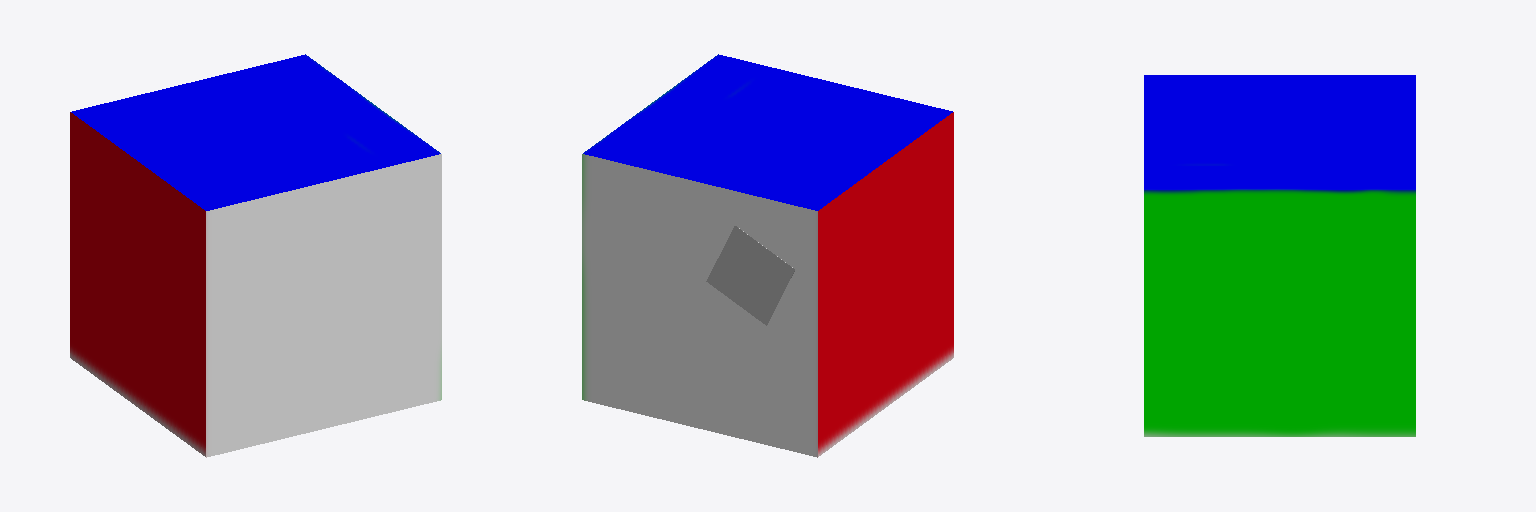
3 views of the same model, side by side, from view 1: azimuth 30°, elevation 25°; view 2: azimuth 150°, elevation 25°; view 3: azimuth 270°, elevation 25° (orthographic).
Parts seen in each view (by area): view 1: Cube; view 2: Cube, Cube.001; view 3: Cube.
Boxes of the visible parts, x1=… form: Cube: x1=70, y1=54, x2=441, y2=457; Cube: x1=582, y1=54, x2=953, y2=457; Cube.001: x1=706, y1=226, x2=794, y2=325; Cube: x1=1144, y1=75, x2=1415, y2=436.
Bounding box in the file's own units: 11.43 × 11.43 × 11.44.
Materials: 2 (1 with a texture image).